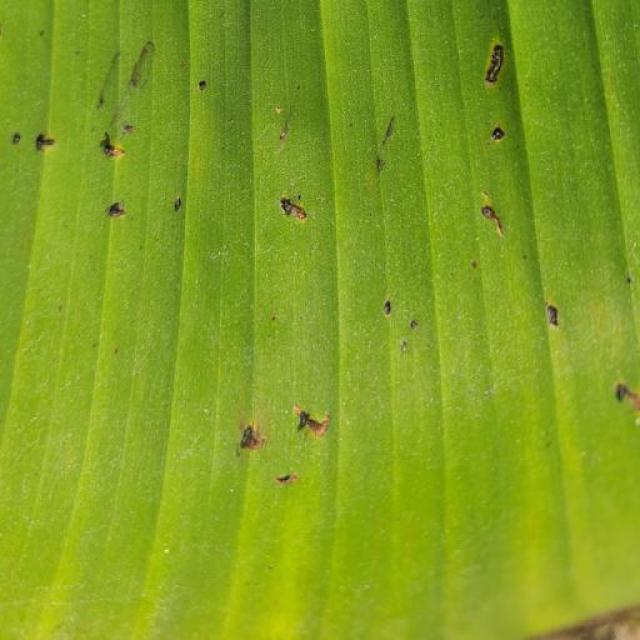Black_rot: (0, 34, 328, 264), (355, 23, 575, 350), (185, 398, 356, 486), (601, 234, 640, 464)
